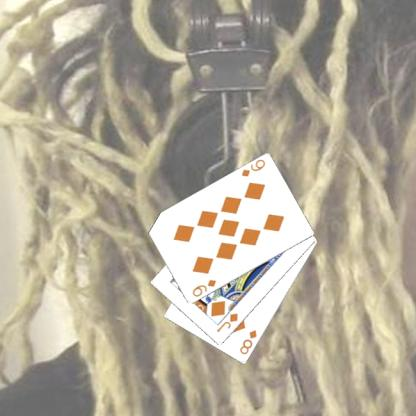8D: (236, 327, 258, 357)
9D: (190, 276, 218, 299), (238, 156, 267, 178)
JD: (214, 310, 239, 334)
